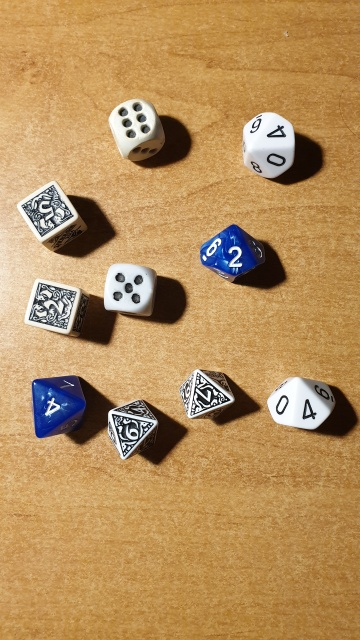d10-2: (216, 232, 257, 277)
d10-4: (28, 379, 82, 440), (293, 386, 324, 434), (264, 113, 293, 151)
d6-5: (105, 262, 150, 312)
d6-6: (105, 92, 166, 148)
d6p-5: (17, 178, 80, 242)
d8p-6: (110, 409, 157, 457)
d8p-7: (191, 372, 231, 421)
